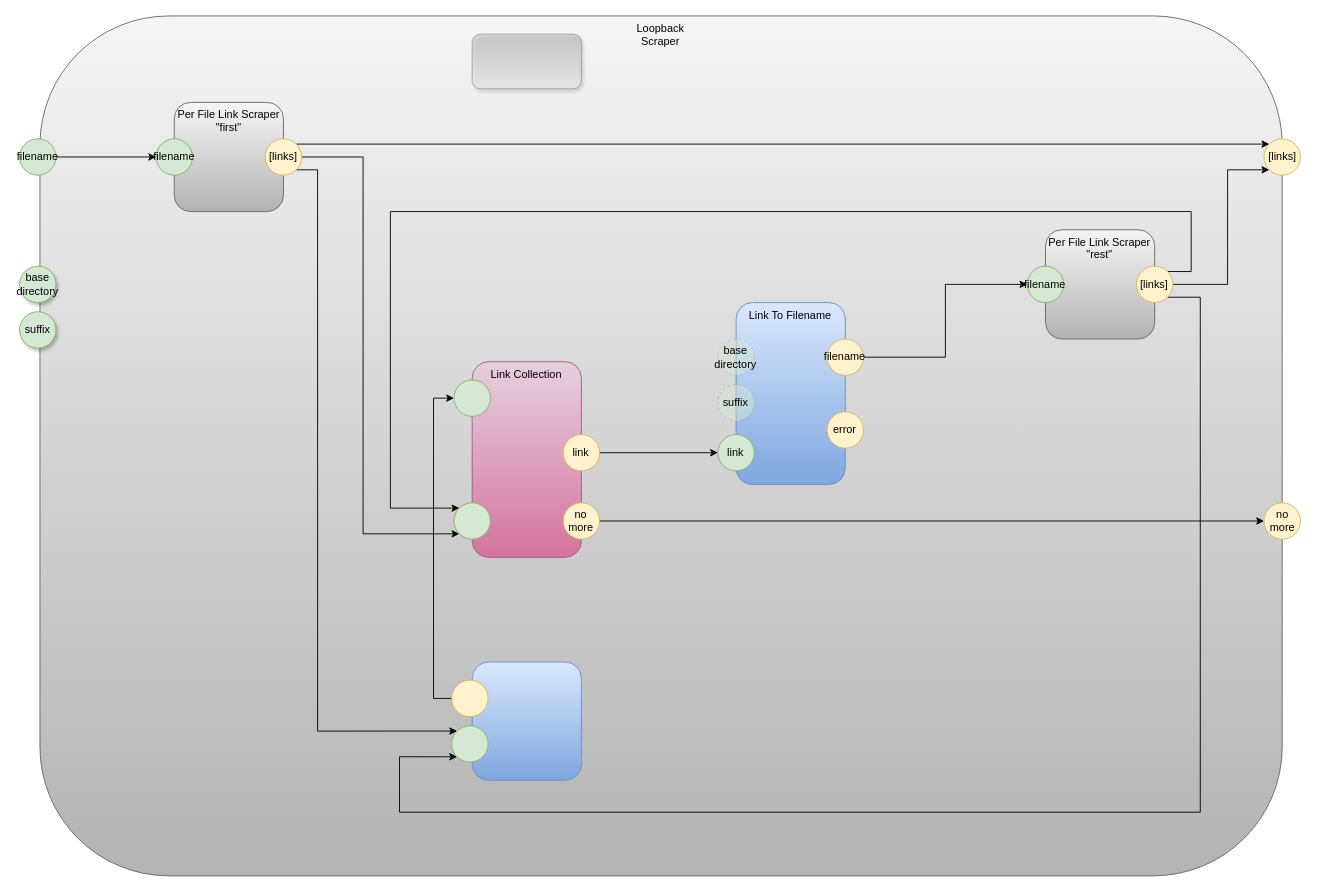
Image size: 1317x892. Some labels were removed from this diagram. The centre of each missing label's shape, as x and y in pixels:
"[append list]" goes at (x=471, y=520).
"any" goes at (x=469, y=743).
"basedirectory '' suffix ''" goes at (x=527, y=62).
"Looper" goes at (x=526, y=720).
"req next" goes at (x=471, y=397).
"trigger" goes at (x=469, y=698).
